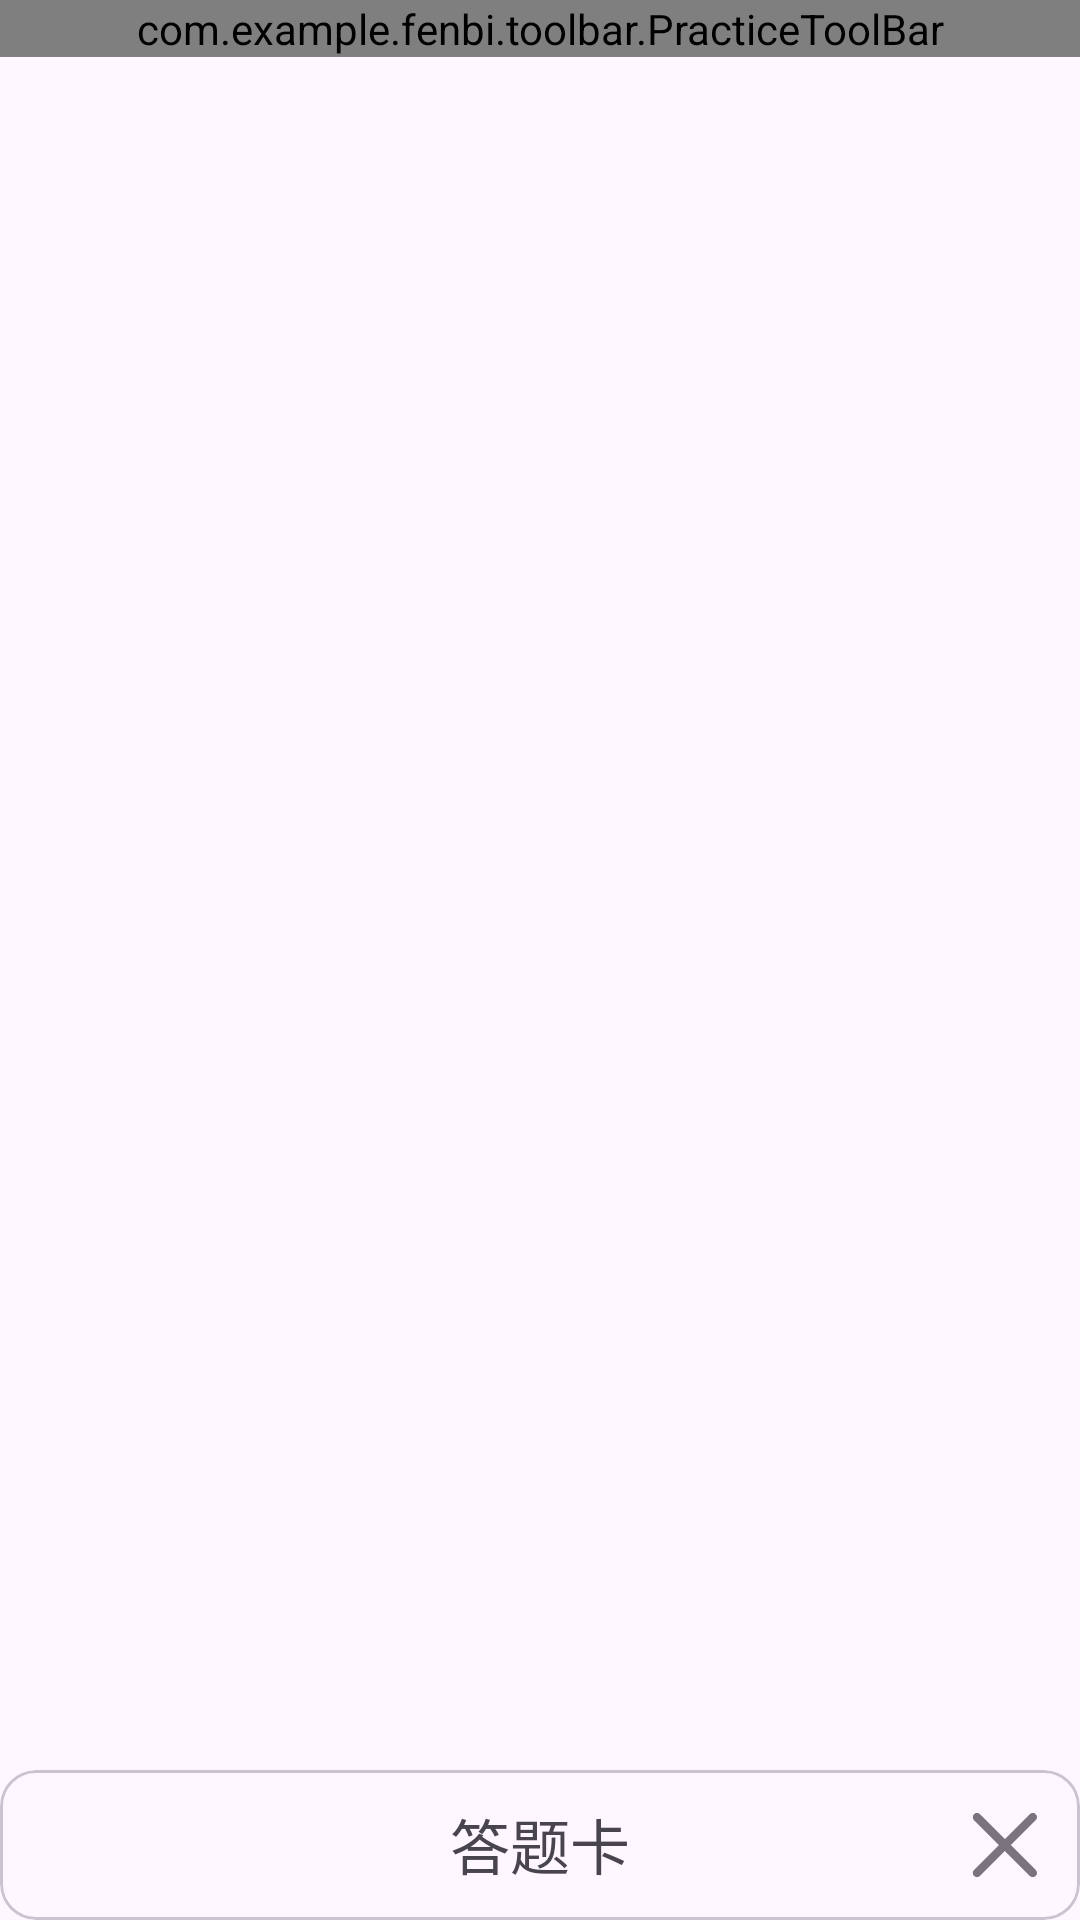

Named icons in this screenshot (1080px×1920px) and their bounding boxes, (x1, y1, x2, y2):
close: (973, 1813, 1037, 1877)
